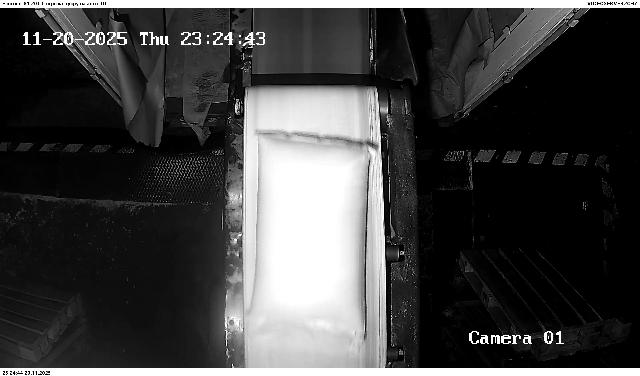bag: (253, 131, 378, 353)
